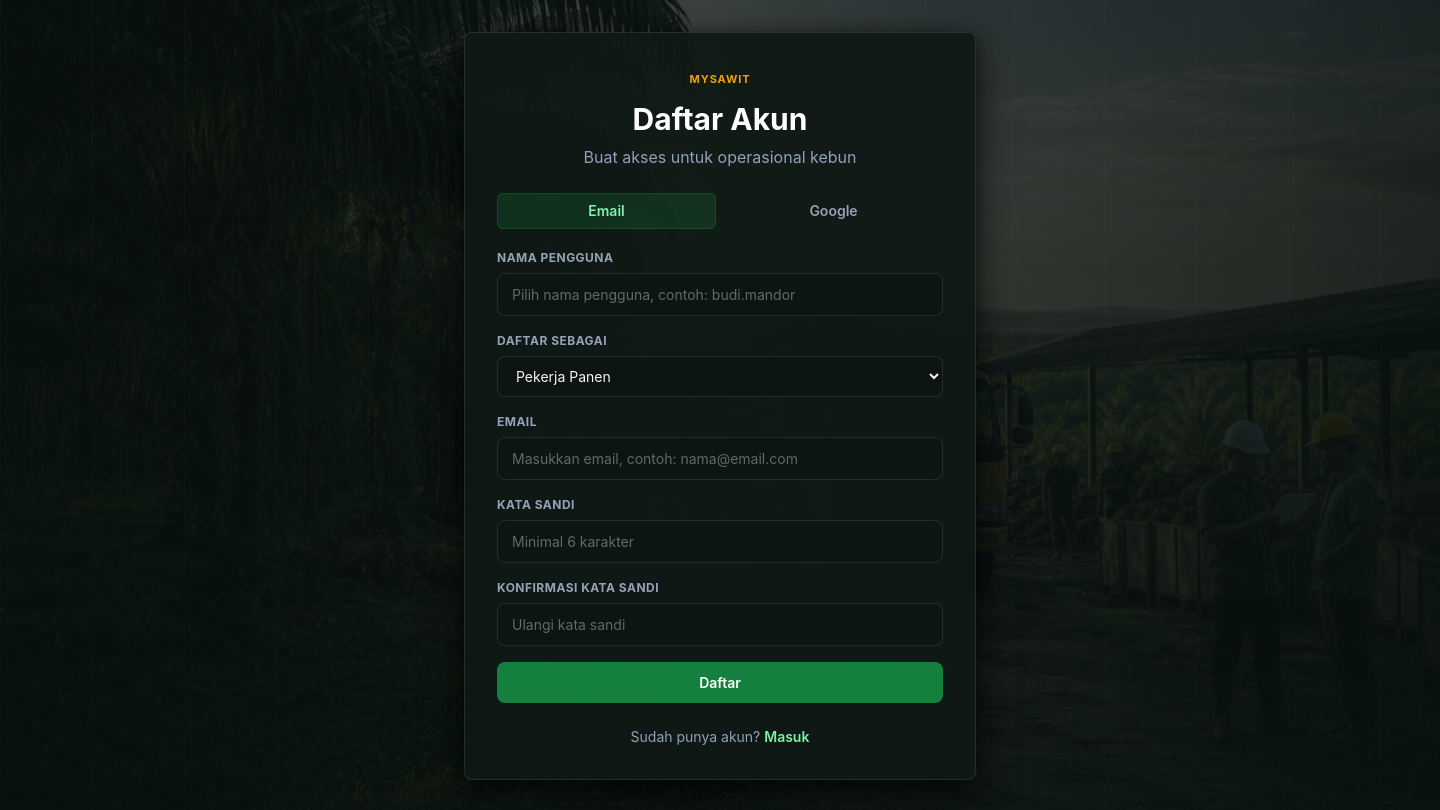
Test: RegisterPage › shows mismatch validation error
Type "user" into the field with placeholder "Pilih nama pengguna, contoh: budi.mandor". click: (720, 294)
box: [497,273,943,316]
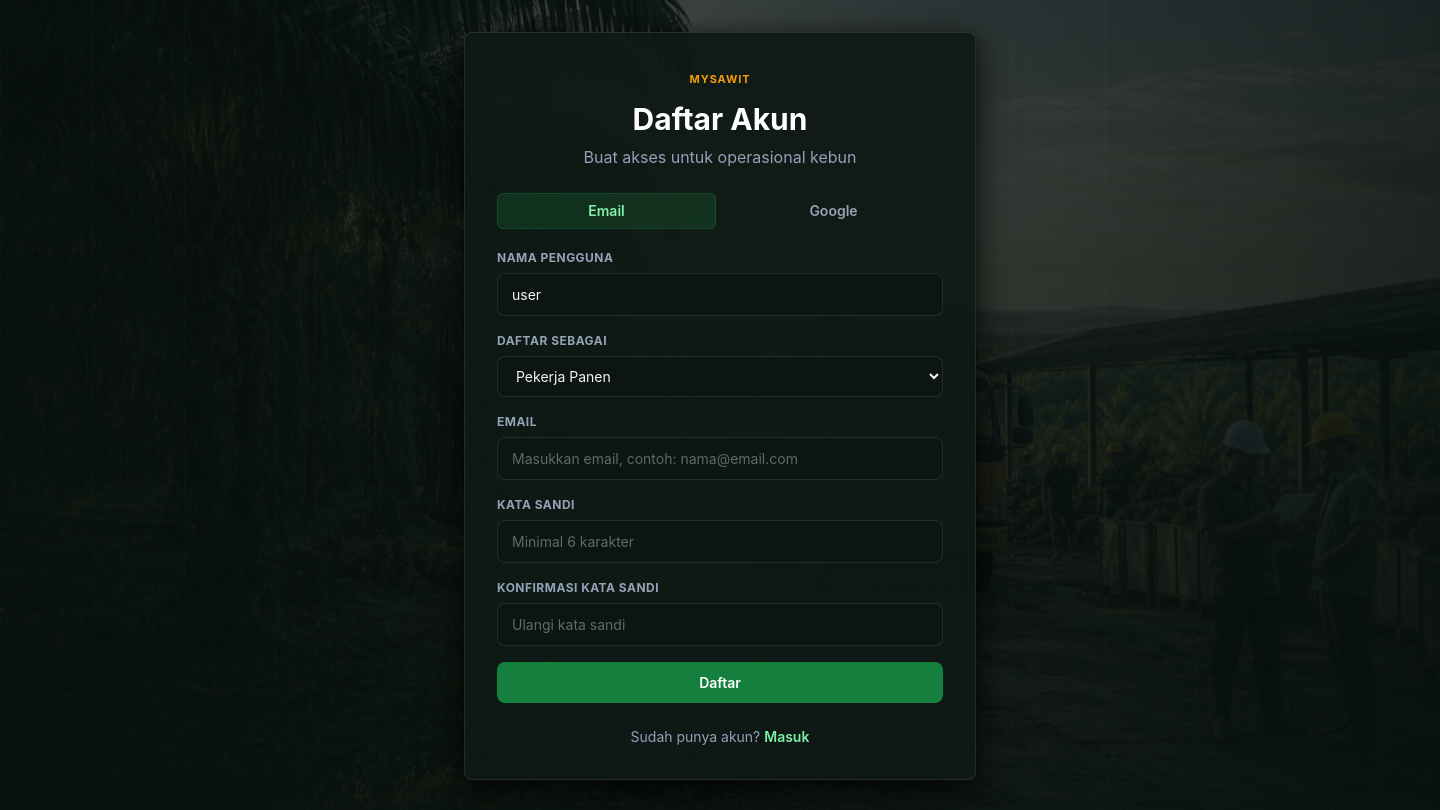
Type "user@mail.com" into the field with placeholder "Masukkan email, contoh: nama@email.com". click: (720, 458)
box: [497,437,943,480]
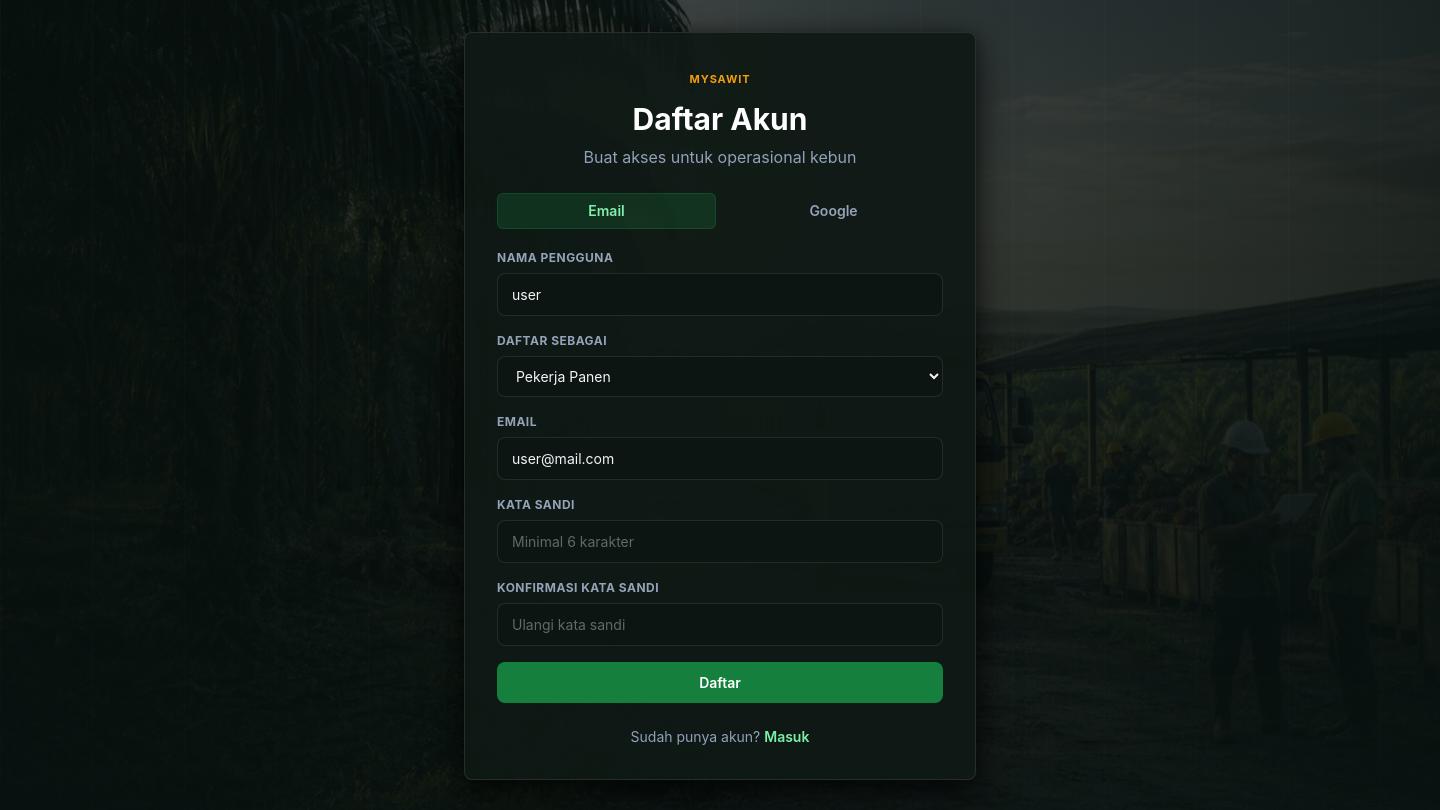
Type "secret123" into the password field with placeholder "Minimal 6 karakter". click: (720, 542)
box: [497,520,943,563]
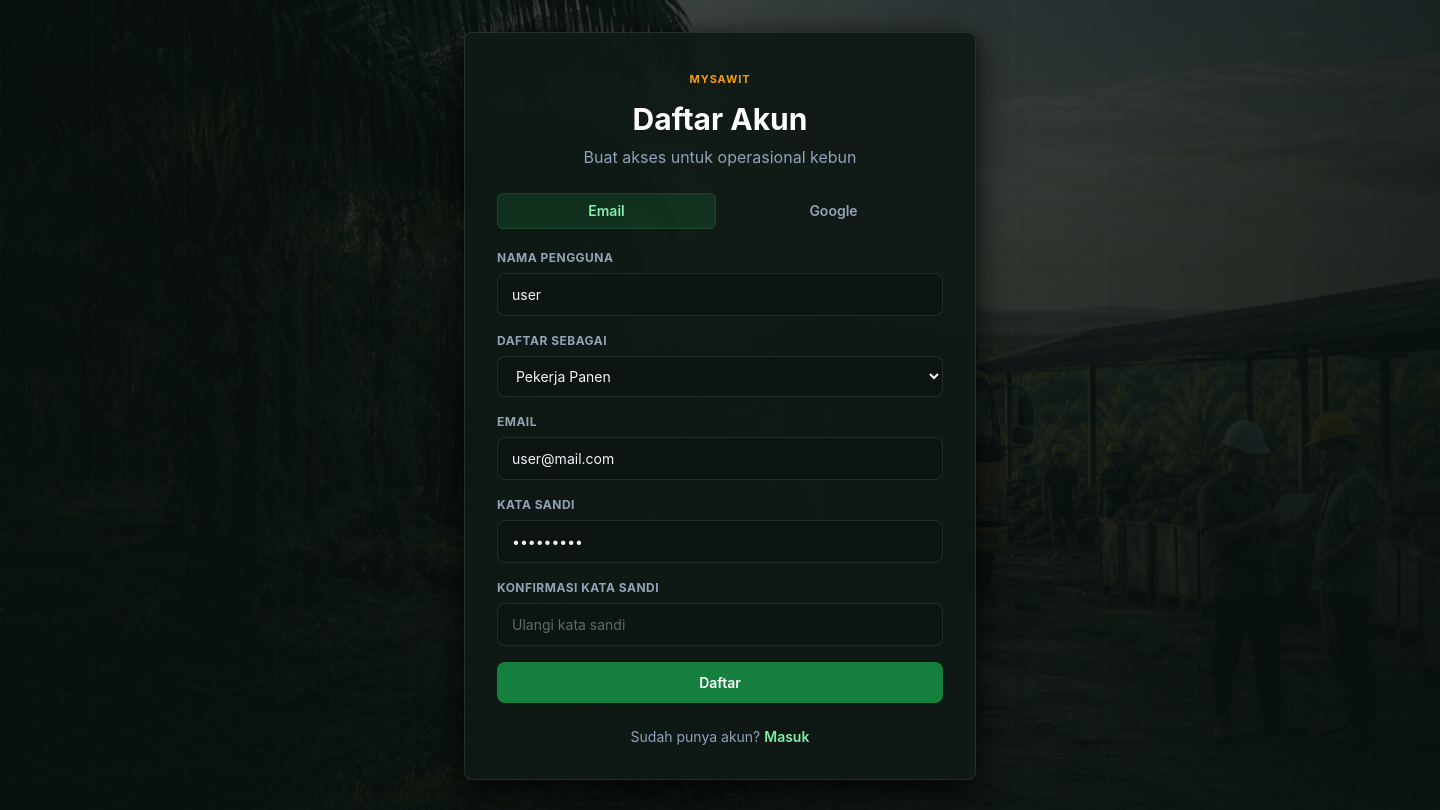
Type "secret124" into the password field with placeholder "Ulangi kata sandi". click: (720, 624)
box: [497,603,943,646]
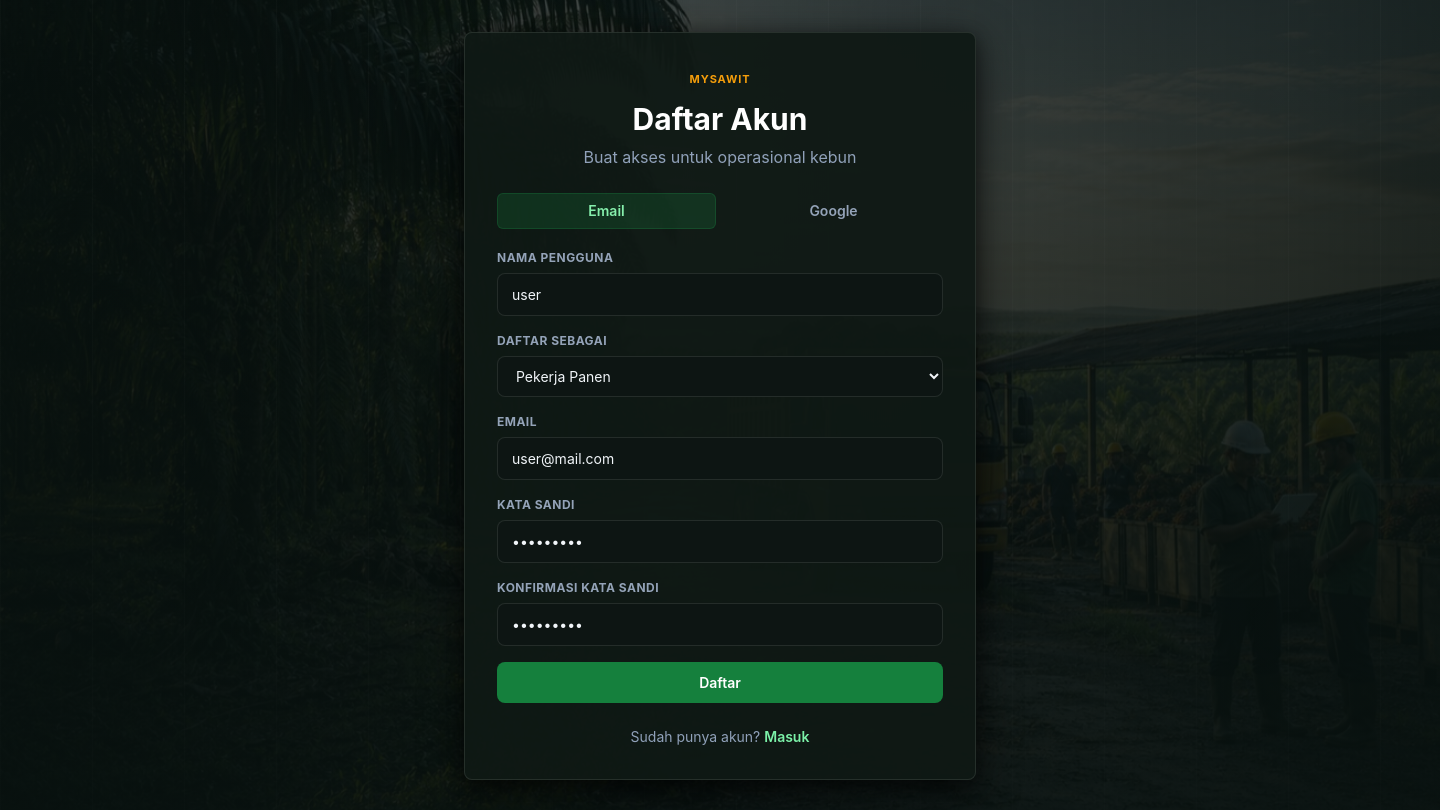
Click the button "Daftar". click: (720, 682)
box: [497,662,943,703]
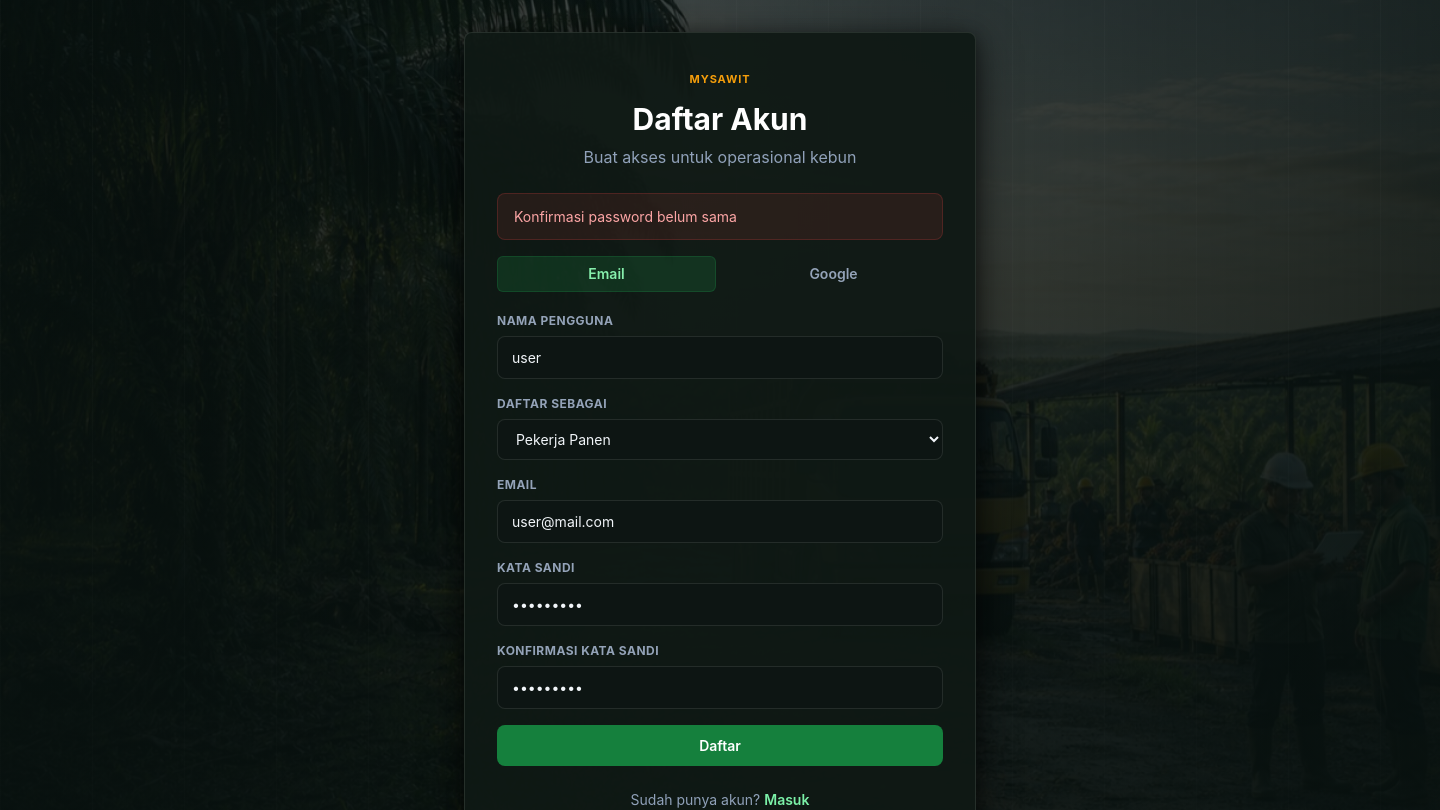
Result: the text "Konfirmasi password belum sama" is shown at [514,206,737,227]
